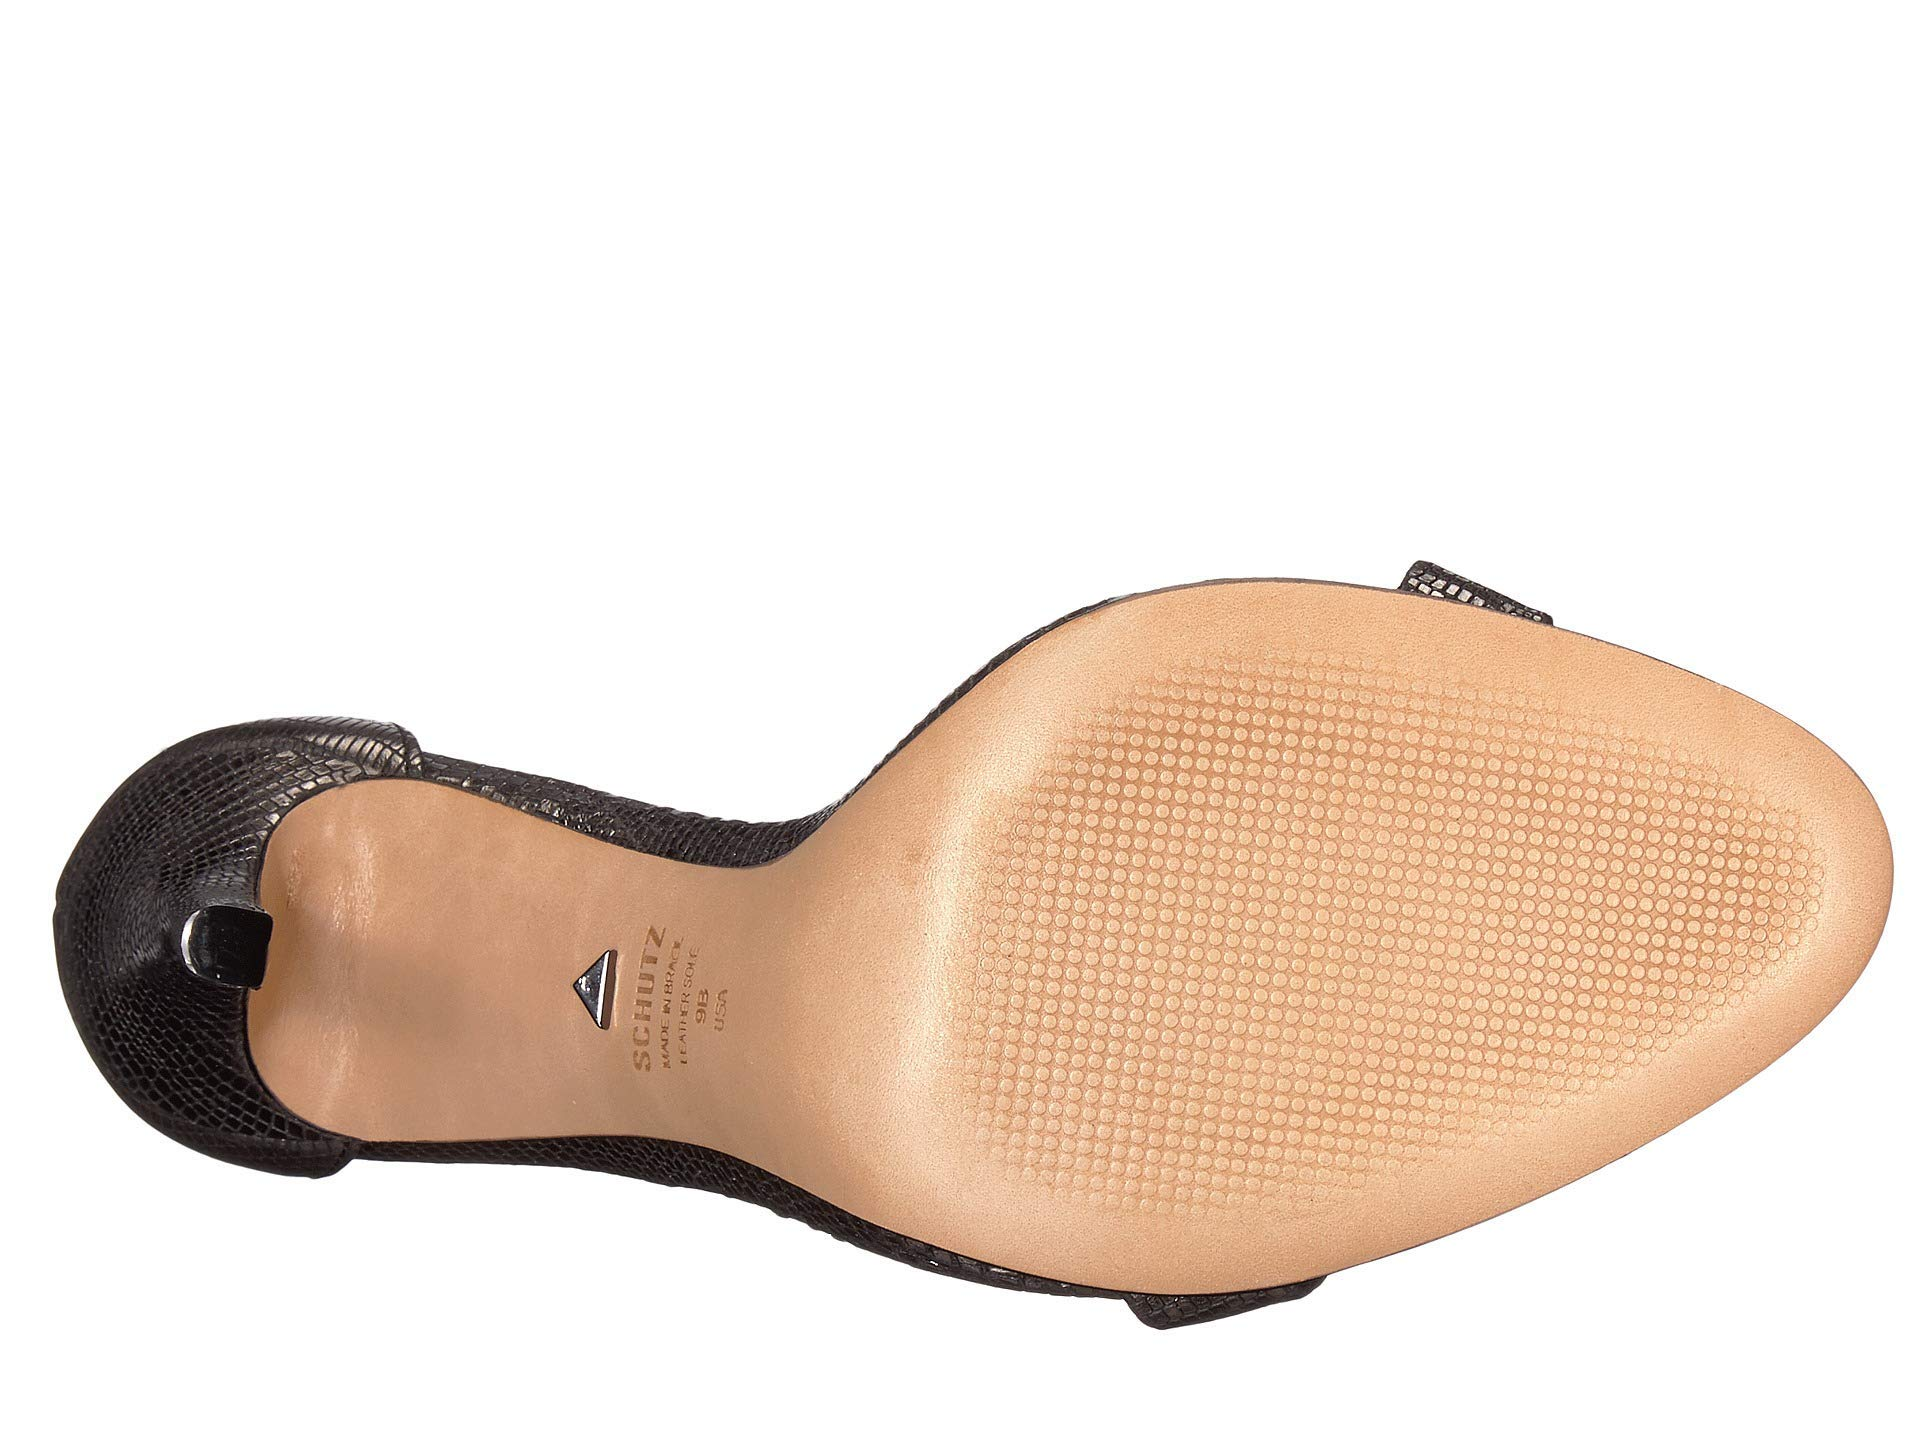circle: (1045, 644, 1665, 1097)
exclude: (286, 712, 897, 1268)
quad: (175, 895, 281, 989)
